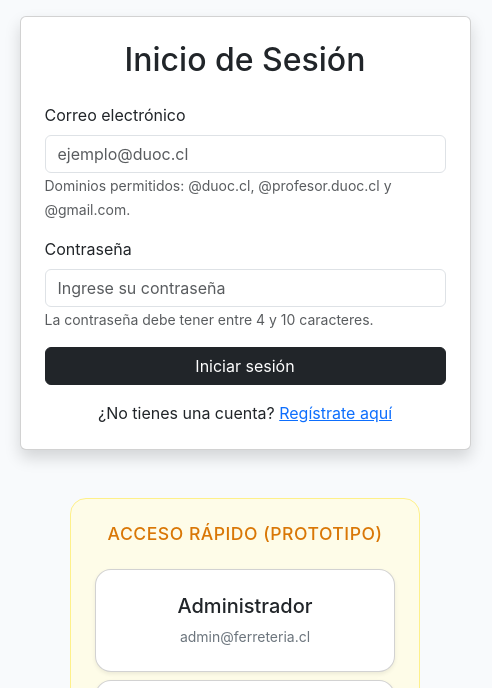
Test: Pruebas del módulo Acceso, Formularios y Cliente - Benjamin › no debe iniciar sesión con contraseña incorrecta
Type "prueba@gmail.com" into the field labelled "Correo electrónico" at [245, 154], box [44,135,446,173]
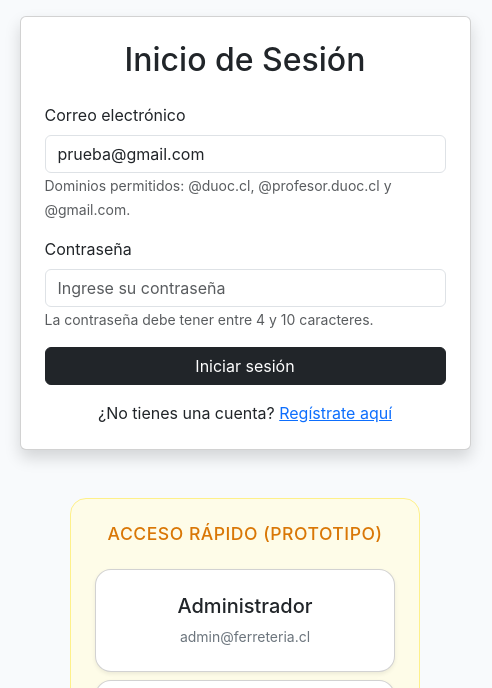
Type "999999" into the password field labelled "Contraseña" at [245, 288], box [44,269,446,307]
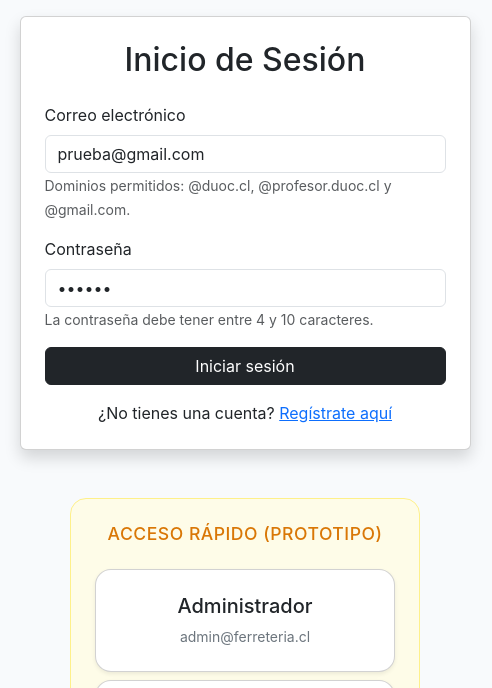
Click the button "Iniciar sesión" at [245, 366], box [44,347,446,385]
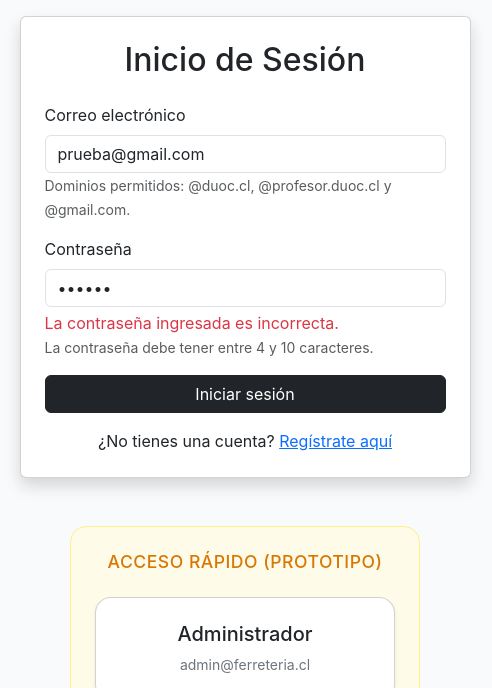
Now the text "La contraseña ingresada es incorrecta." is shown, box [44,313,339,333]
